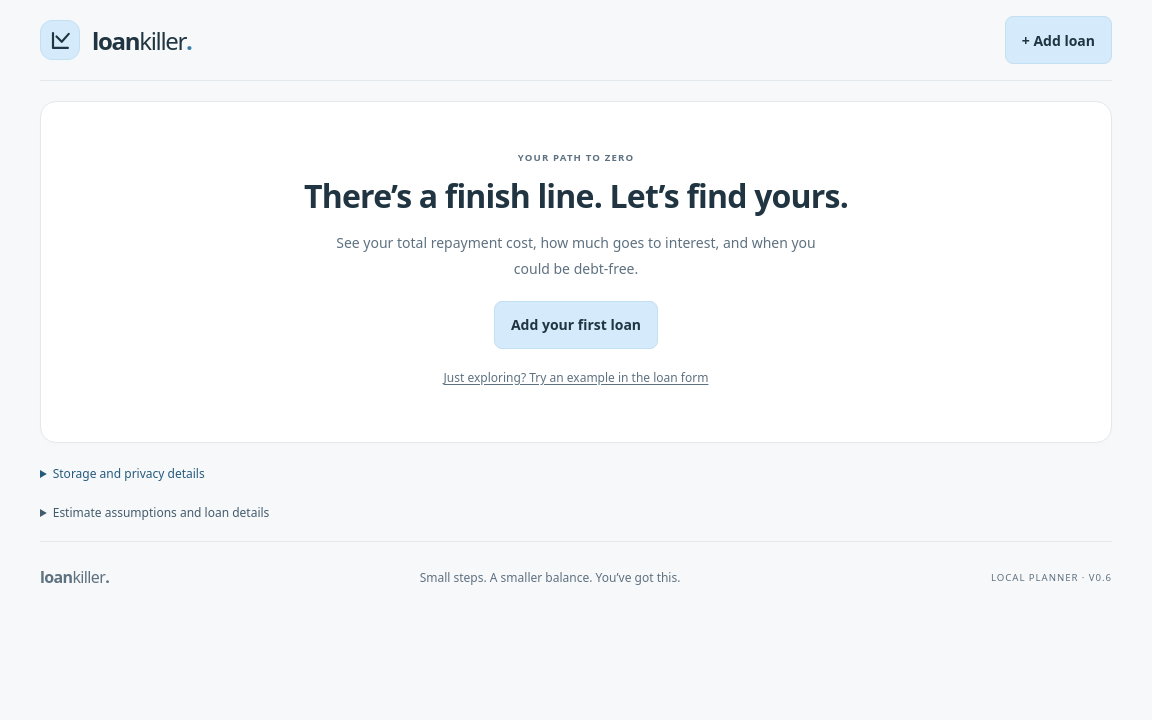
Test: single-loan baseline › starts with a compact empty state and keeps routine details collapsed
The image size is (1152, 720).
Click the button with class "header-add" at (1058, 40), box [1005,16,1112,64]
(page scrolled)
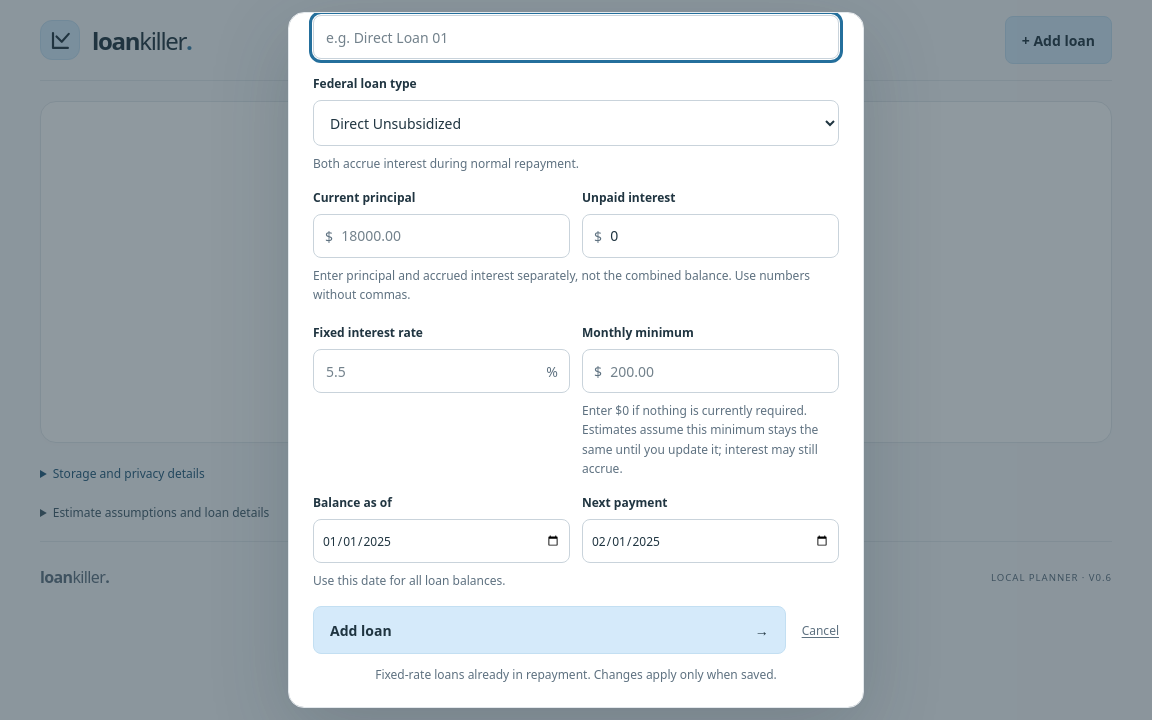
Expected: the date field with id "balance-date" holds "2025-01-01", [313,519,570,563]
